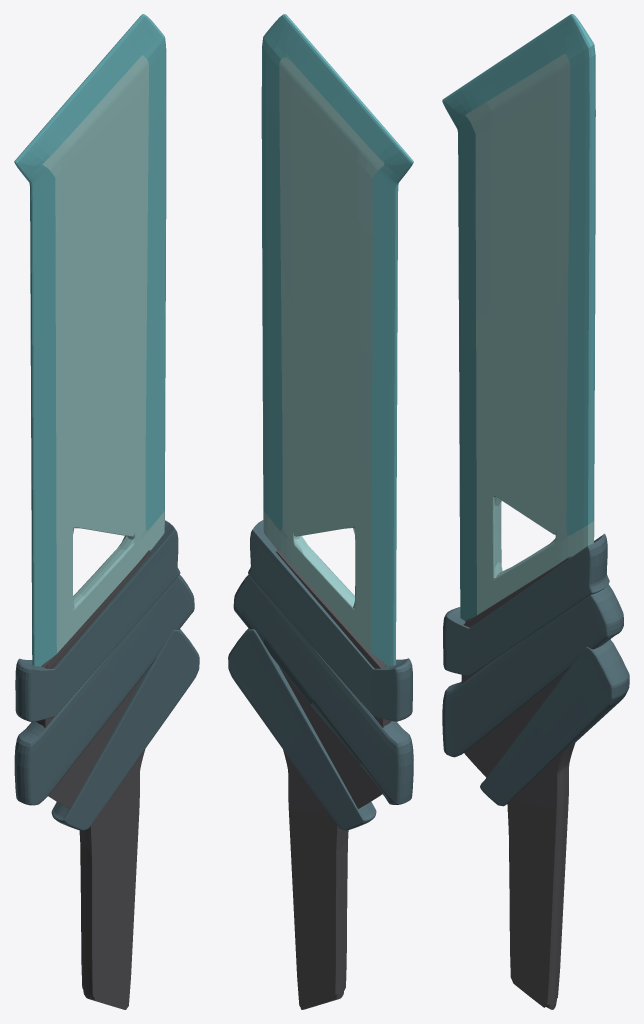
File: blade.fbx
3 renders of one model, left to right at view 1: azimuth 30°, elevation 25°; view 2: azimuth 150°, elevation 25°; view 3: azimuth 330°, elevation 25°, orthographic.
Parts seen in each view (by area): view 1: Sword, combiner, Handle, Edge, Hit_Edge; view 2: Sword, combiner, Handle, Edge, Hit_Edge; view 3: Sword, combiner, Edge, Handle, Hit_Edge.
Part boxes in pixels (x1,y1,x2,y2): Sword: [42, 55, 164, 653]; combiner: [14, 520, 199, 830]; Handle: [36, 550, 151, 1009]; Edge: [16, 14, 166, 530]; Hit_Edge: [14, 159, 56, 666]; Sword: [263, 57, 385, 652]; combiner: [228, 520, 413, 830]; Handle: [276, 549, 391, 1009]; Edge: [261, 14, 411, 530]; Hit_Edge: [371, 159, 413, 666]; Sword: [465, 53, 594, 614]; combiner: [442, 533, 629, 806]; Edge: [444, 14, 595, 535]; Handle: [461, 556, 575, 1009]; Hit_Edge: [442, 99, 476, 621].
Size of the model in its own units: 9.7 by 50.92 by 1.64.
